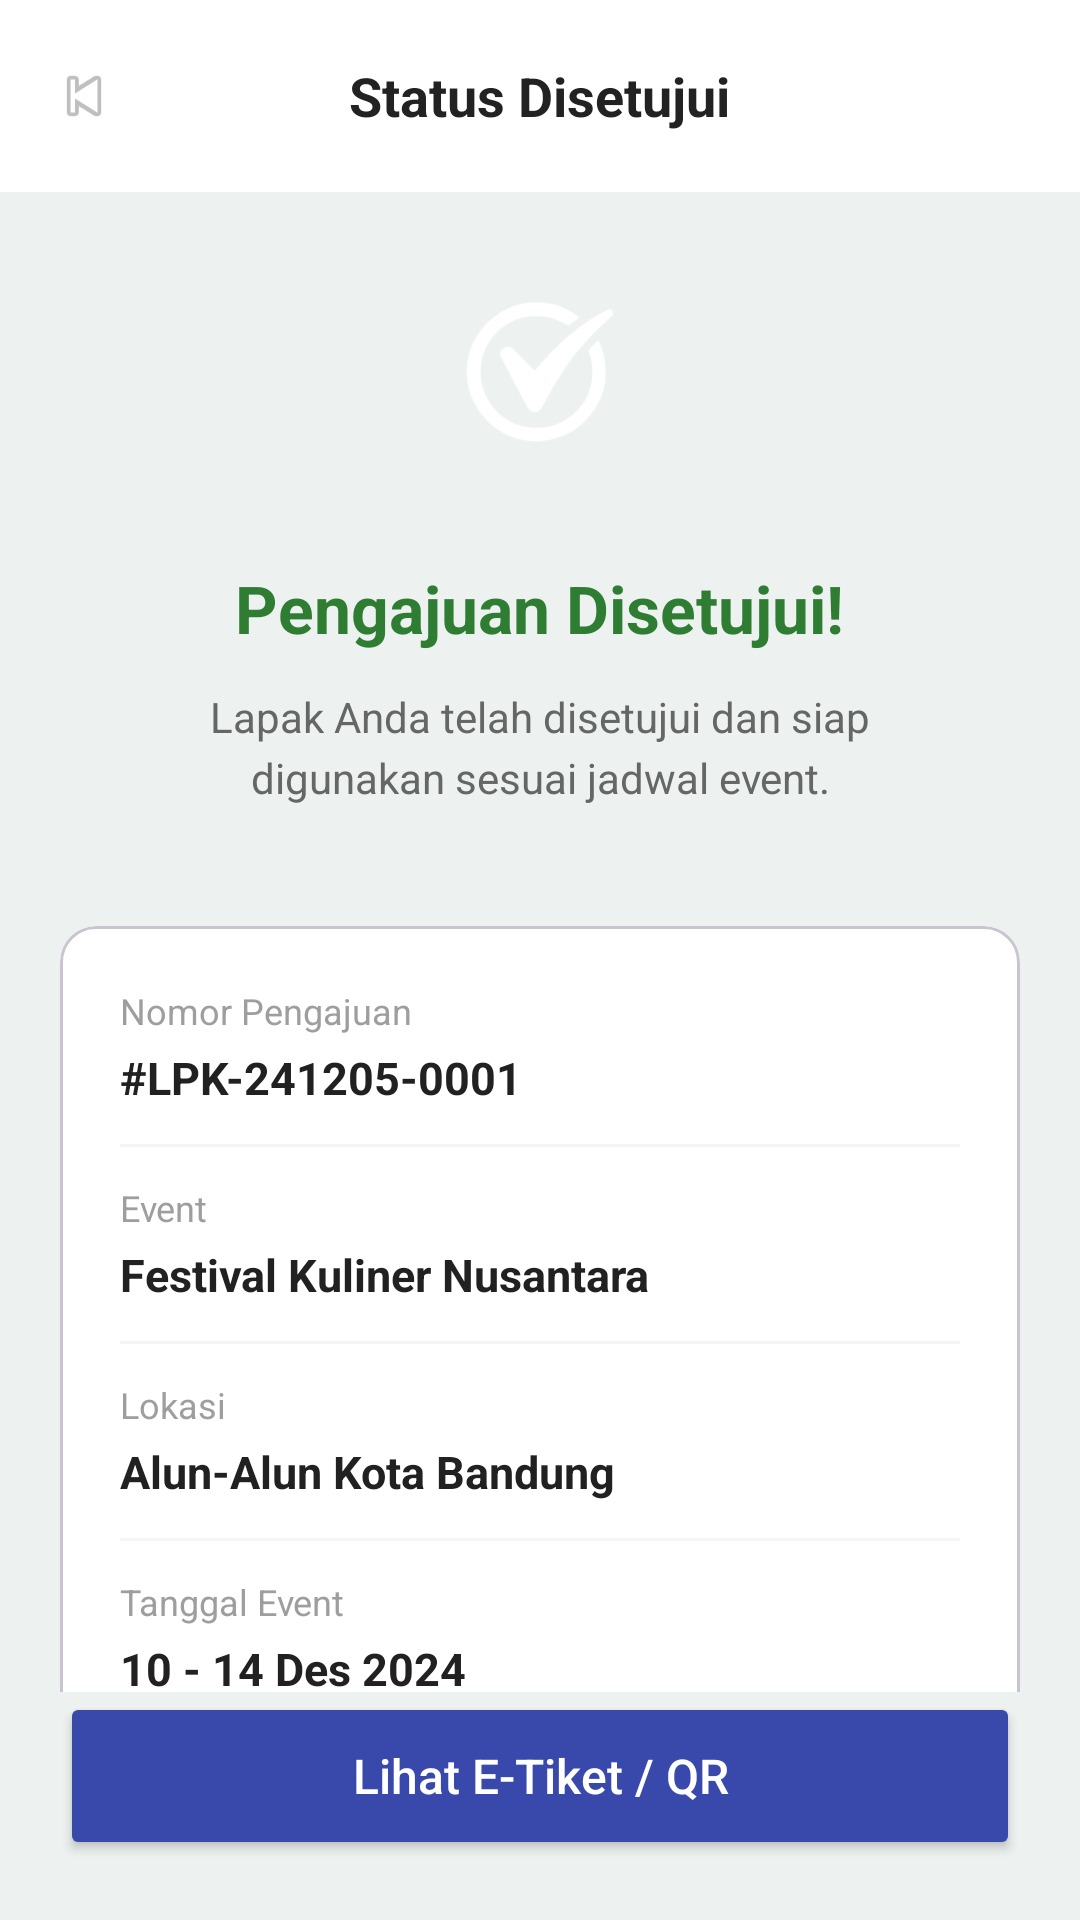

Icon click points for this 1080 × 1920 phone screenshot, format (x,y):
previous: (84,96)
